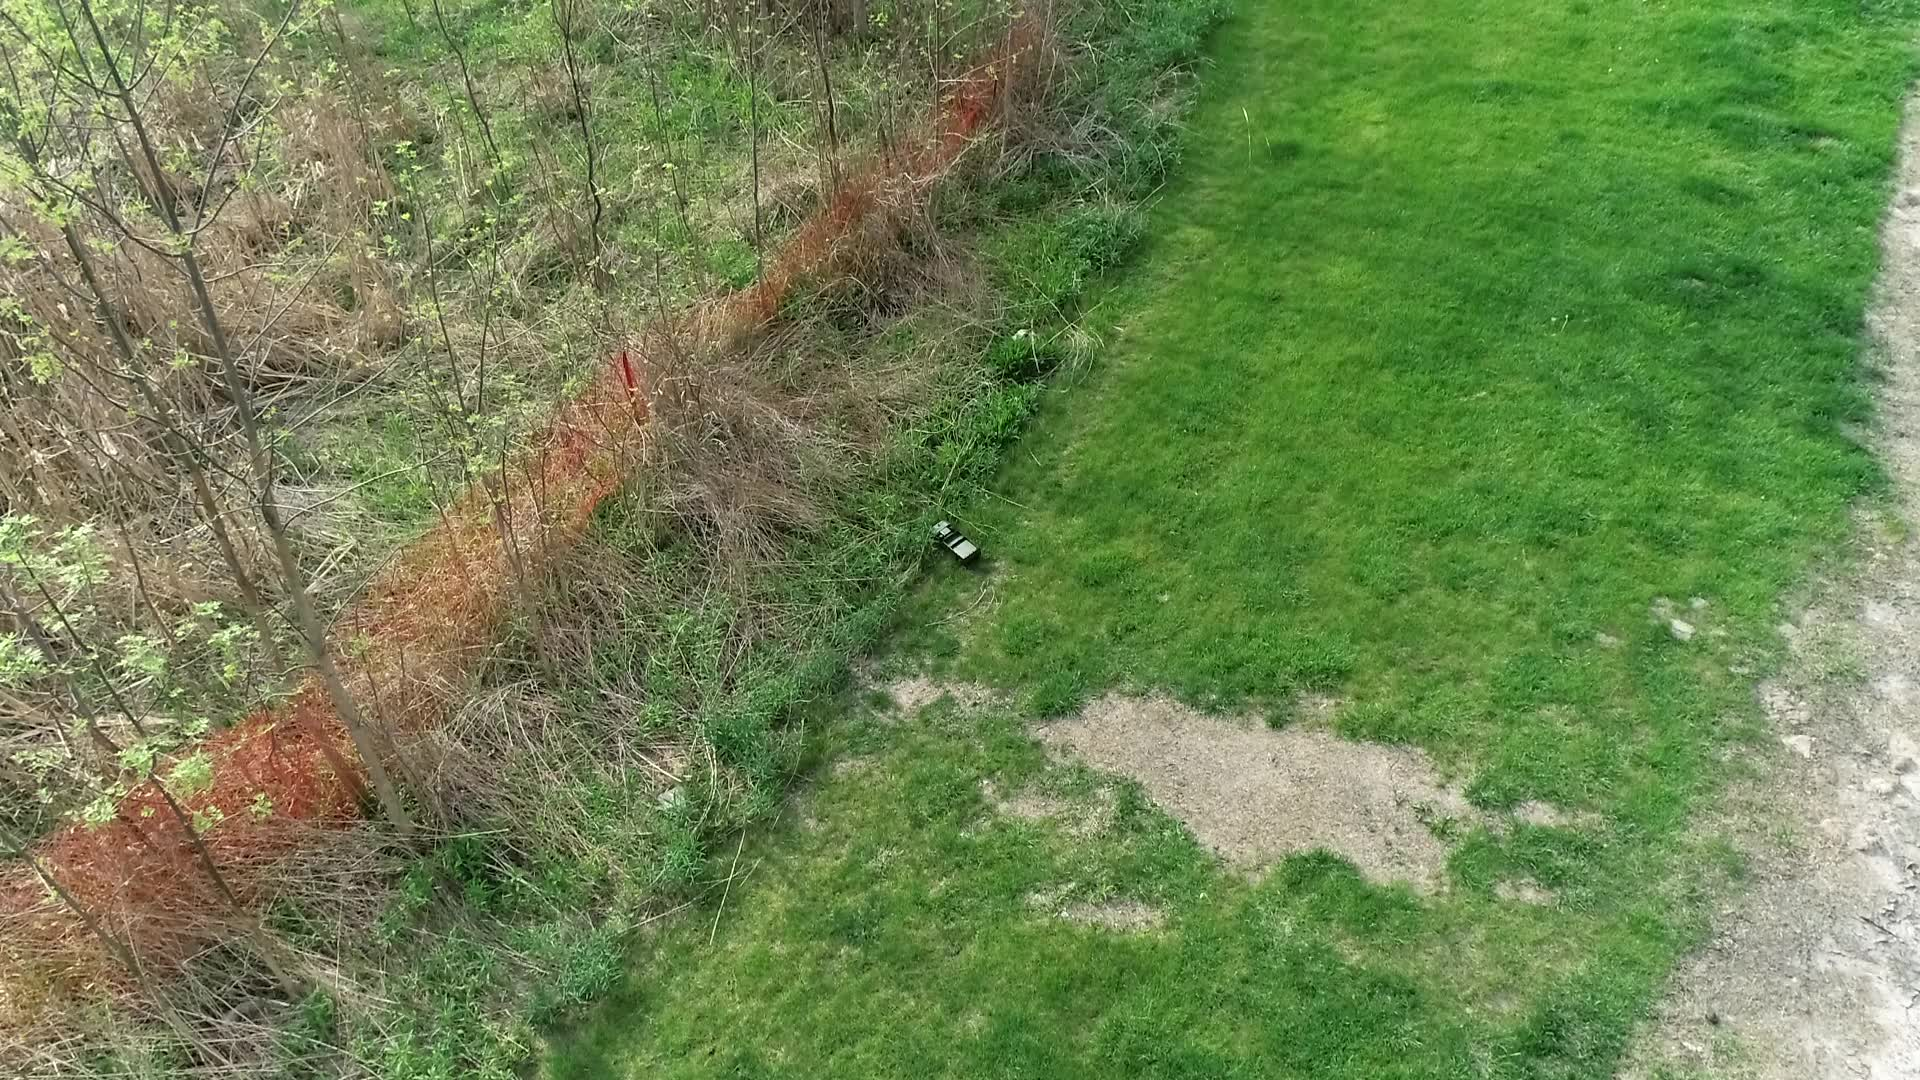transporter9: (932, 520, 980, 566)
